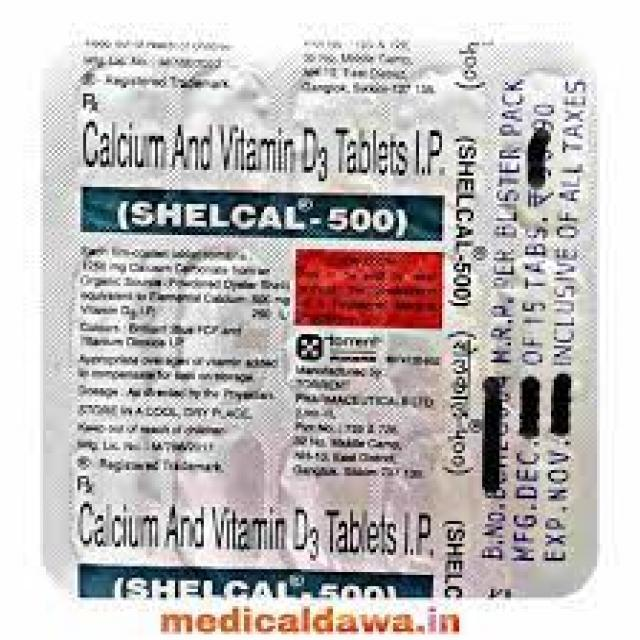authentic: (22, 20, 617, 600)
